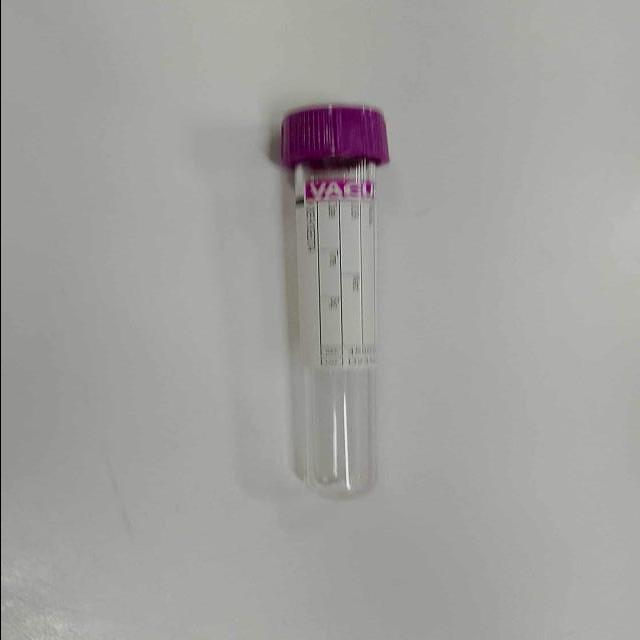General: (278, 102, 391, 170), (300, 174, 376, 203)
Sharps: (279, 102, 391, 500)
